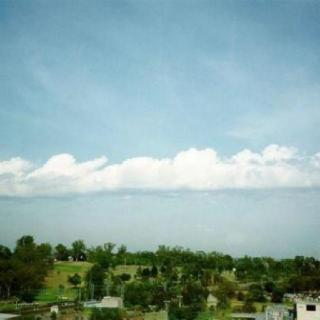Cirrostratus: (0, 119, 320, 207)
